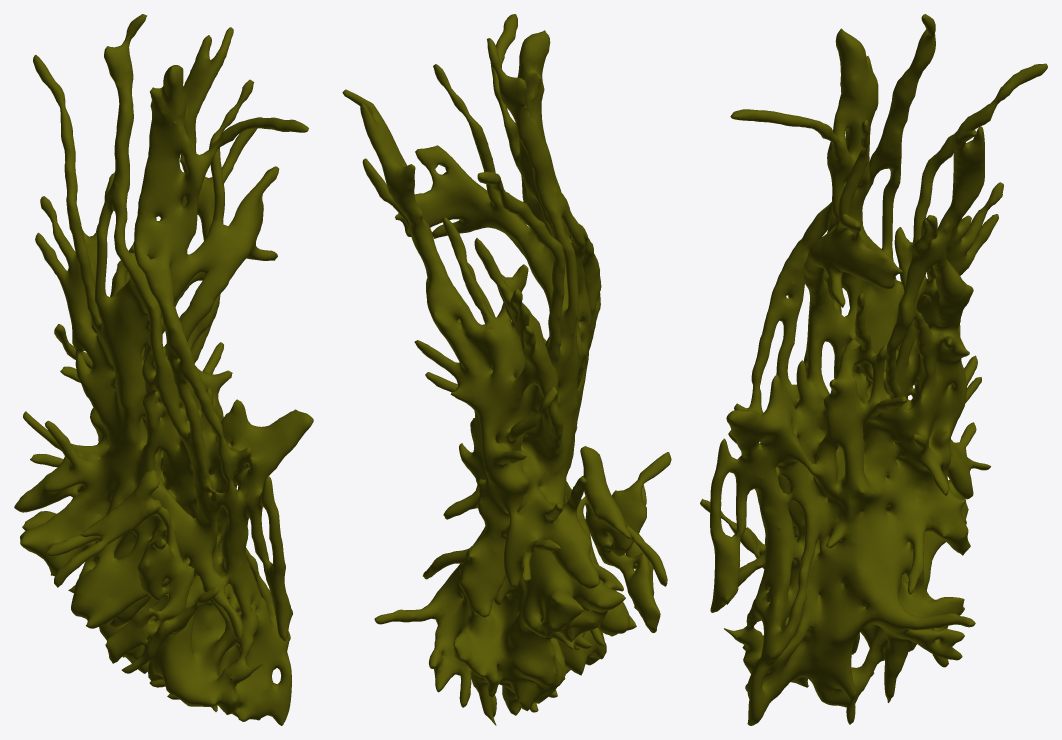
File: Optic_radiation.obj
3 views of the same model, side by side, from view 1: azimuth 30°, elevation 25°; view 2: azimuth 150°, elevation 25°; view 3: azimuth 270°, elevation 25° (orthographic). The views are drawn at different scales.
Parts seen in each view (by area): view 1: grp1; view 2: grp1; view 3: grp1.
Boxes of the visible parts, x1=… form: grp1: x1=14, y1=14, x2=313, y2=725; grp1: x1=342, y1=14, x2=671, y2=725; grp1: x1=700, y1=14, x2=1047, y2=725.
Bounding box in the file's own units: 46.02 × 121 × 54.81.
